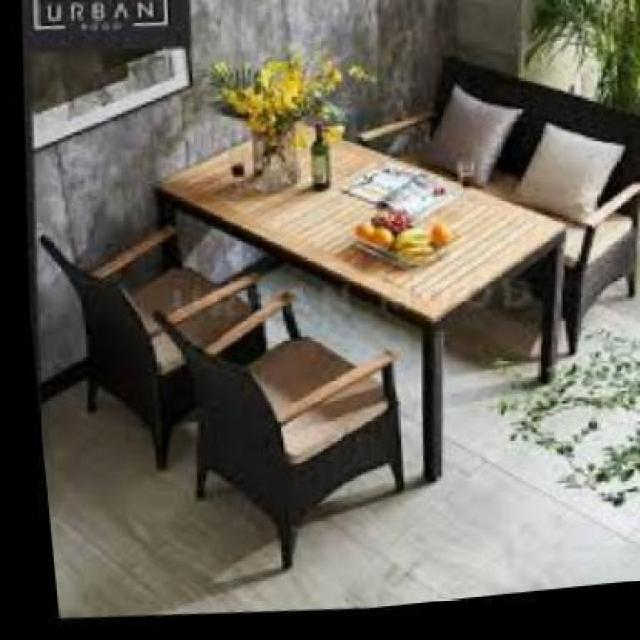tables: (152, 126, 568, 482)
